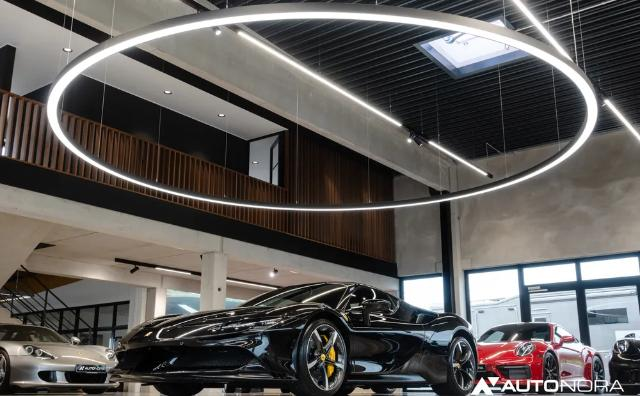ferrari: (114, 281, 478, 396), (474, 323, 605, 396), (0, 324, 120, 396)
